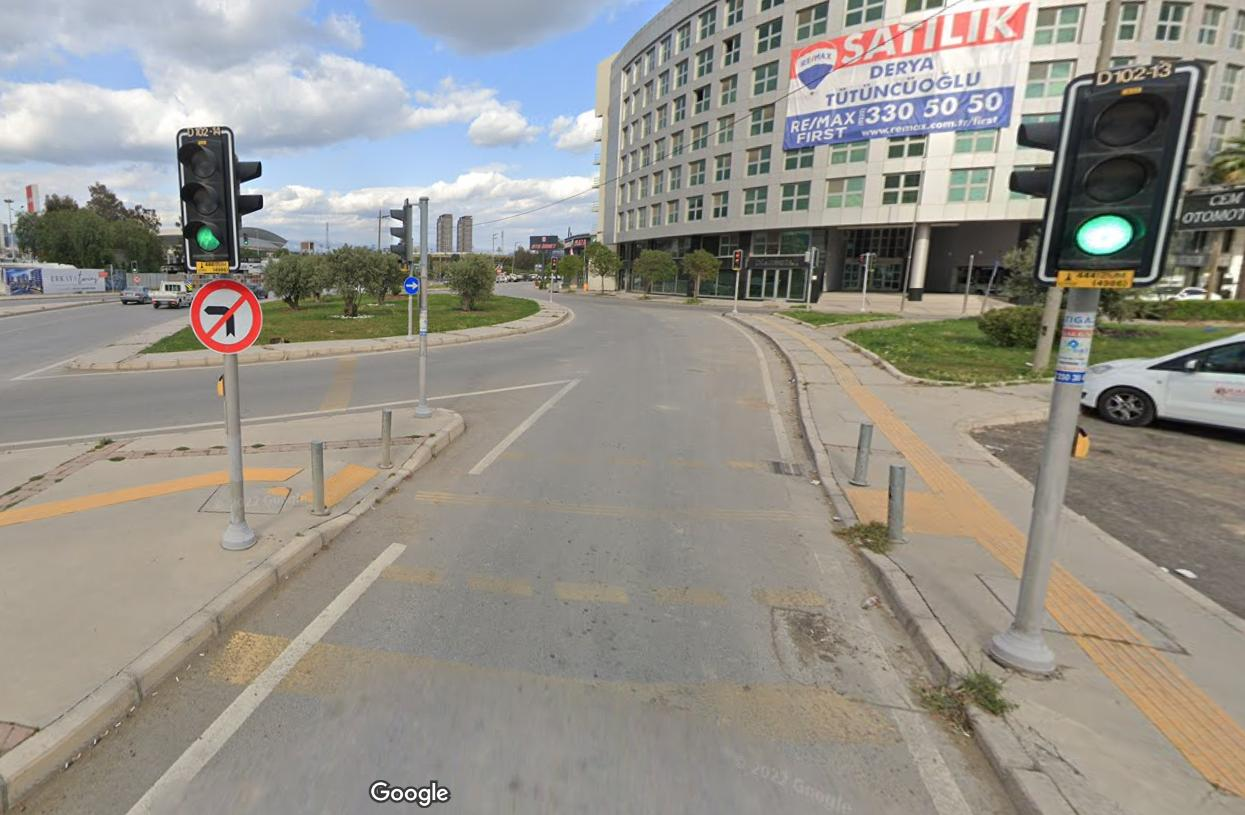greenlight: (1051, 64, 1166, 291), (178, 129, 240, 272)
leftturnsareforbidden: (190, 280, 261, 353)
